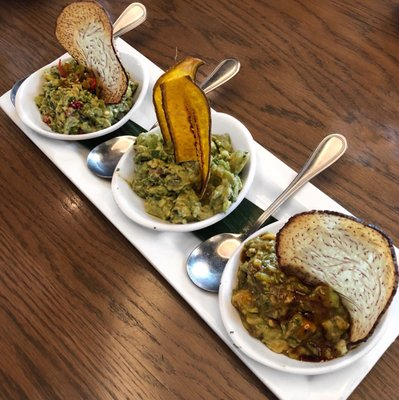salad: (184, 133, 347, 293), (87, 135, 137, 179)
sushi: (218, 208, 399, 377), (111, 90, 258, 232), (16, 53, 146, 143)
